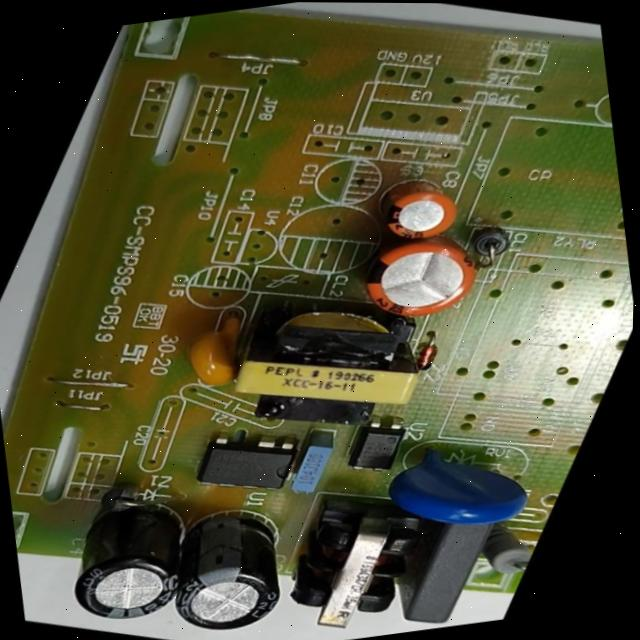Cap1: (329, 205, 517, 345)
Cap2: (348, 158, 486, 259)
Cap3: (128, 481, 343, 640)
Cap4: (23, 471, 237, 640)
MOSFET: (172, 405, 327, 513)
Mov: (355, 413, 565, 555)
Resistor: (457, 512, 551, 587)
Transformer: (181, 257, 469, 463), (247, 470, 470, 640)
